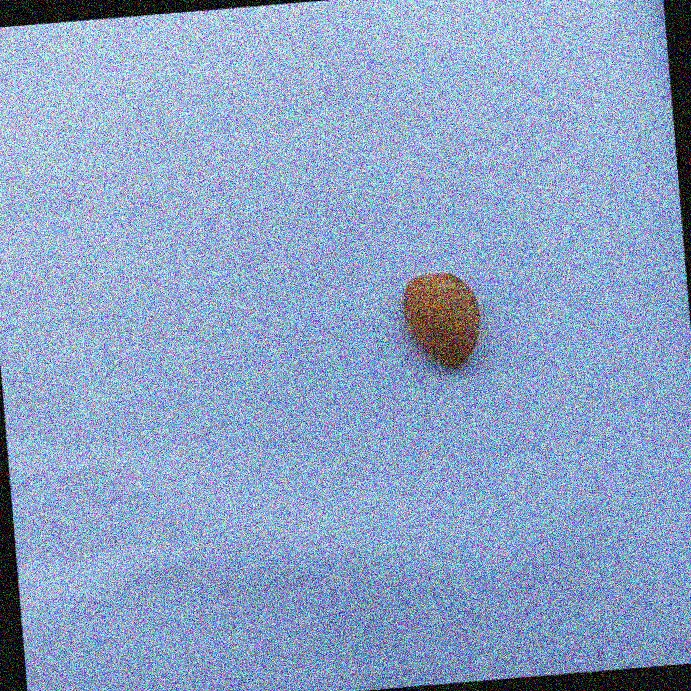grade2: (393, 266, 488, 377)
